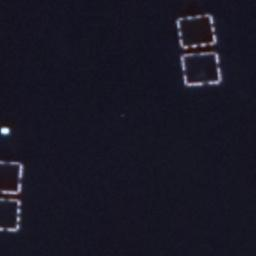square_solid: (177, 49, 226, 91), (173, 10, 221, 51), (1, 156, 27, 198), (1, 195, 25, 236)
